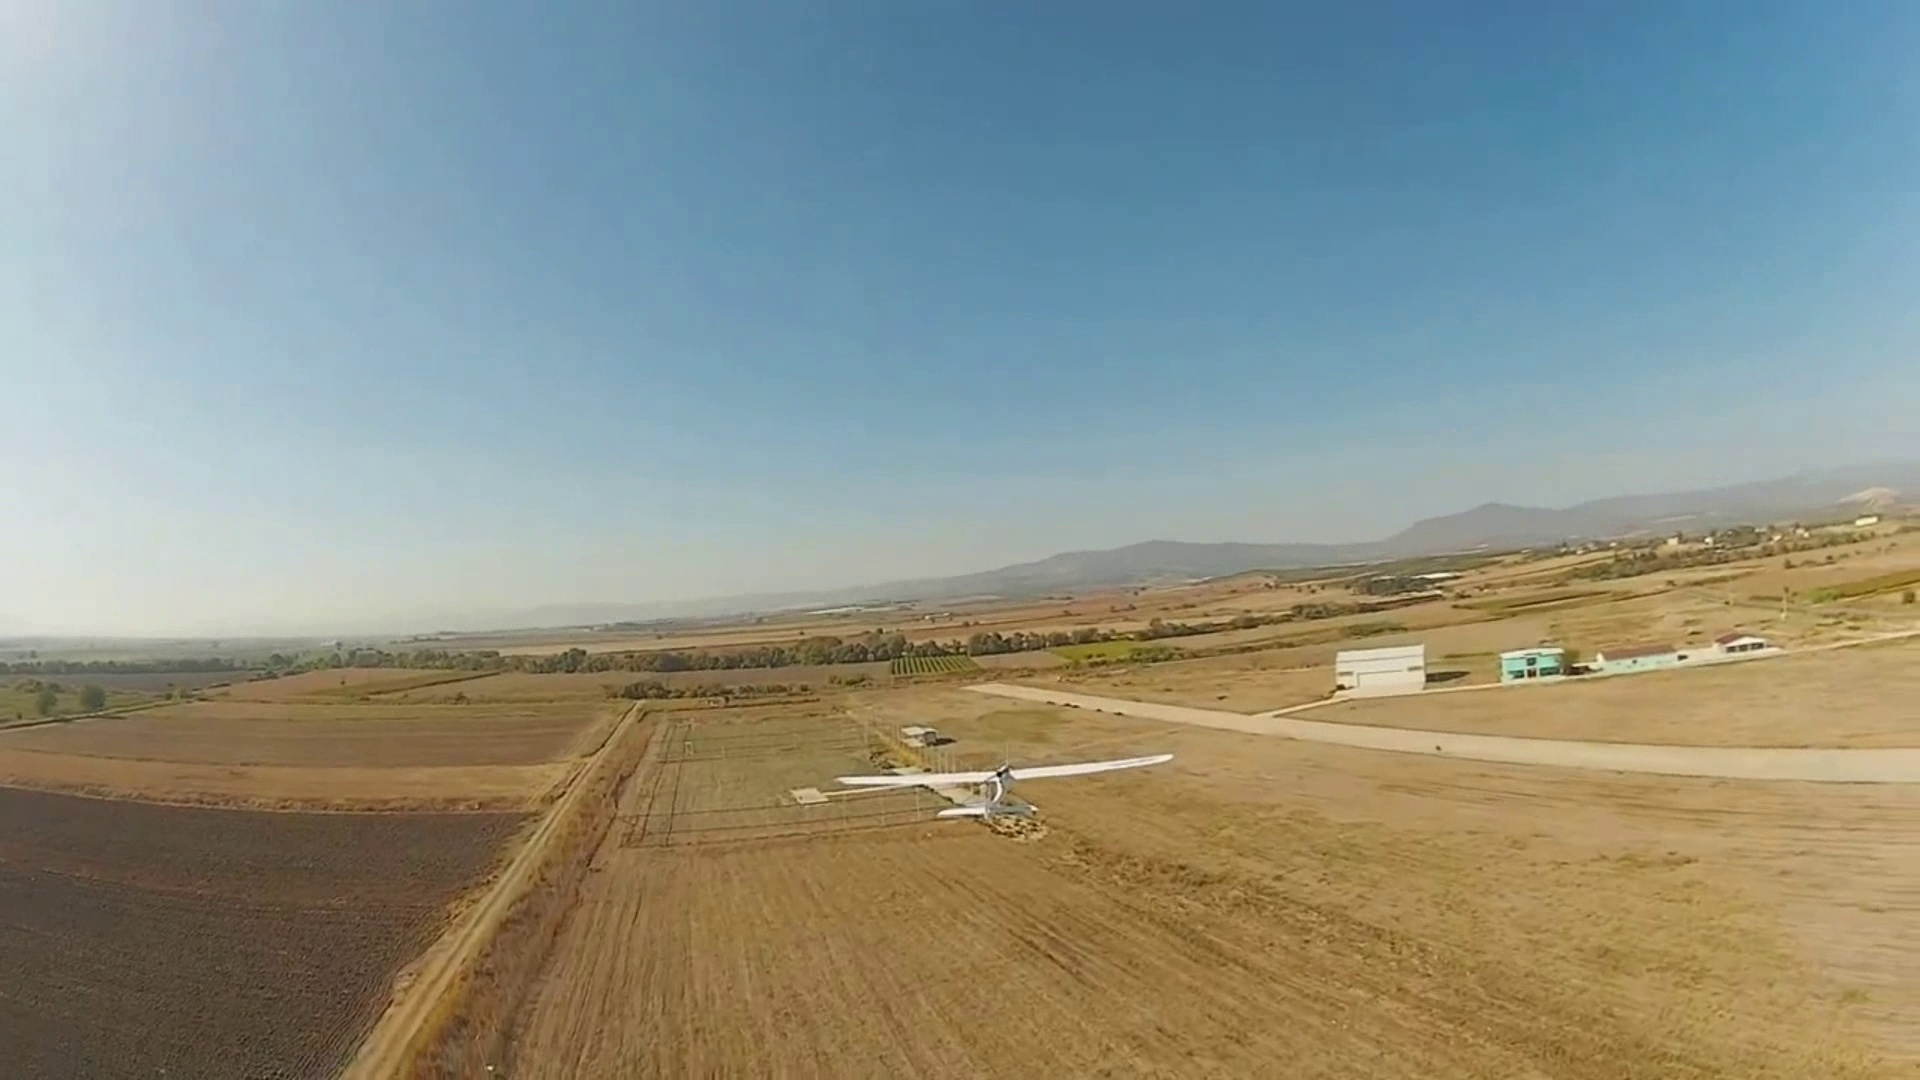airplane: (804, 738, 1178, 835)
